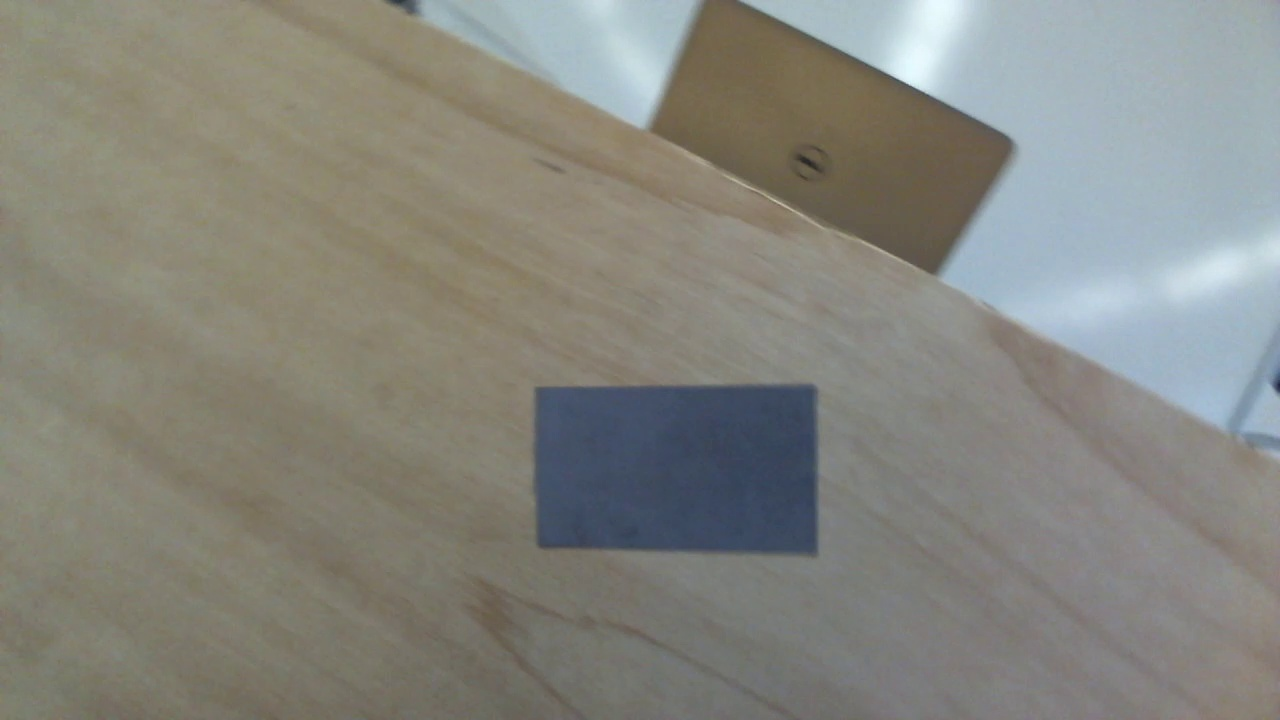Tape: (534, 384, 820, 555)
